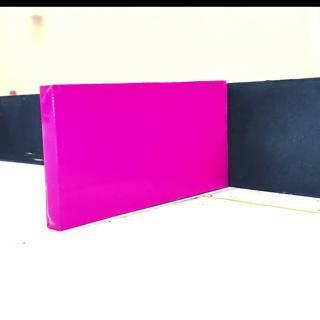xparking: (42, 86, 226, 204)
